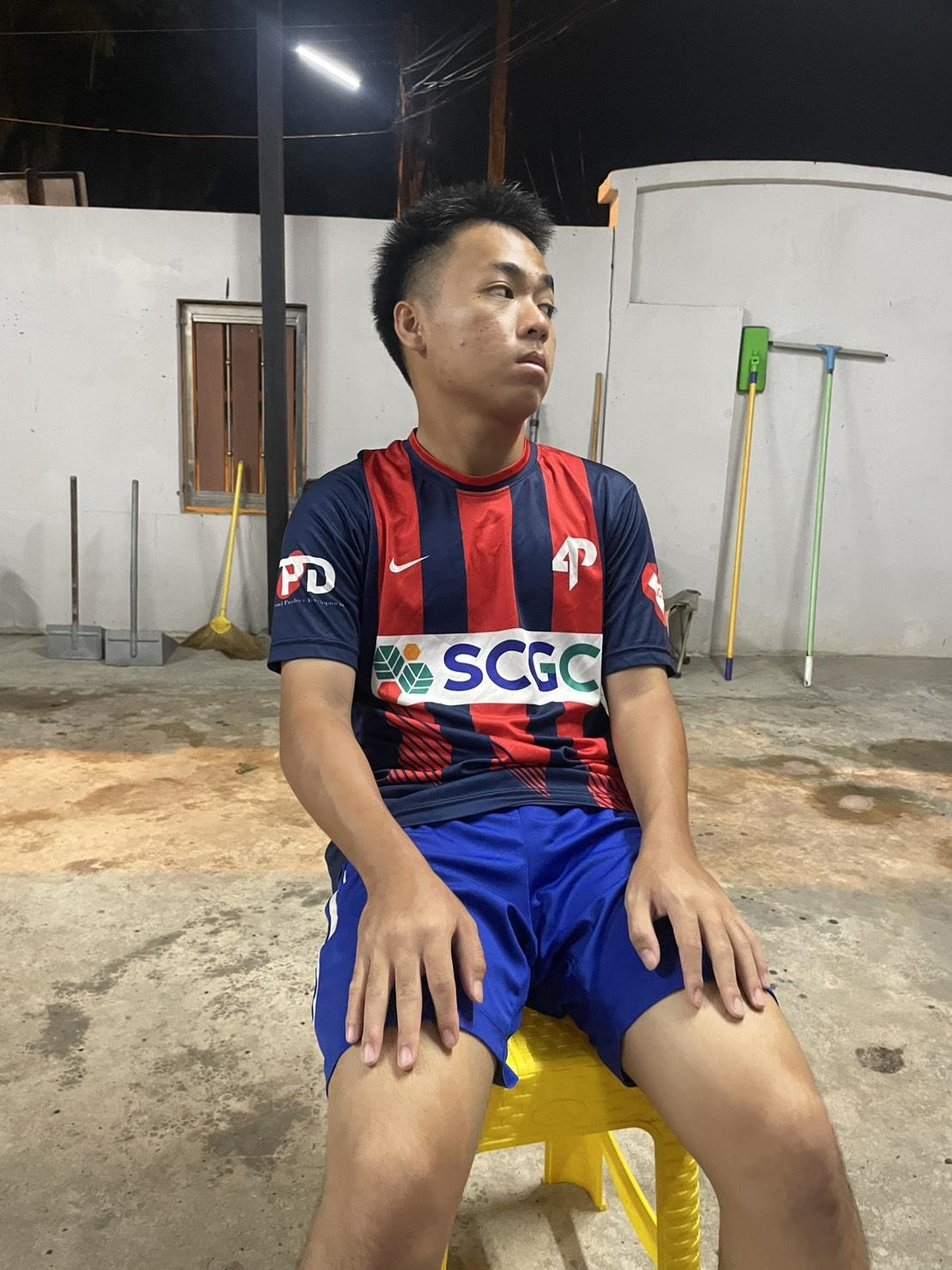BadPosture: (270, 183, 669, 827)
